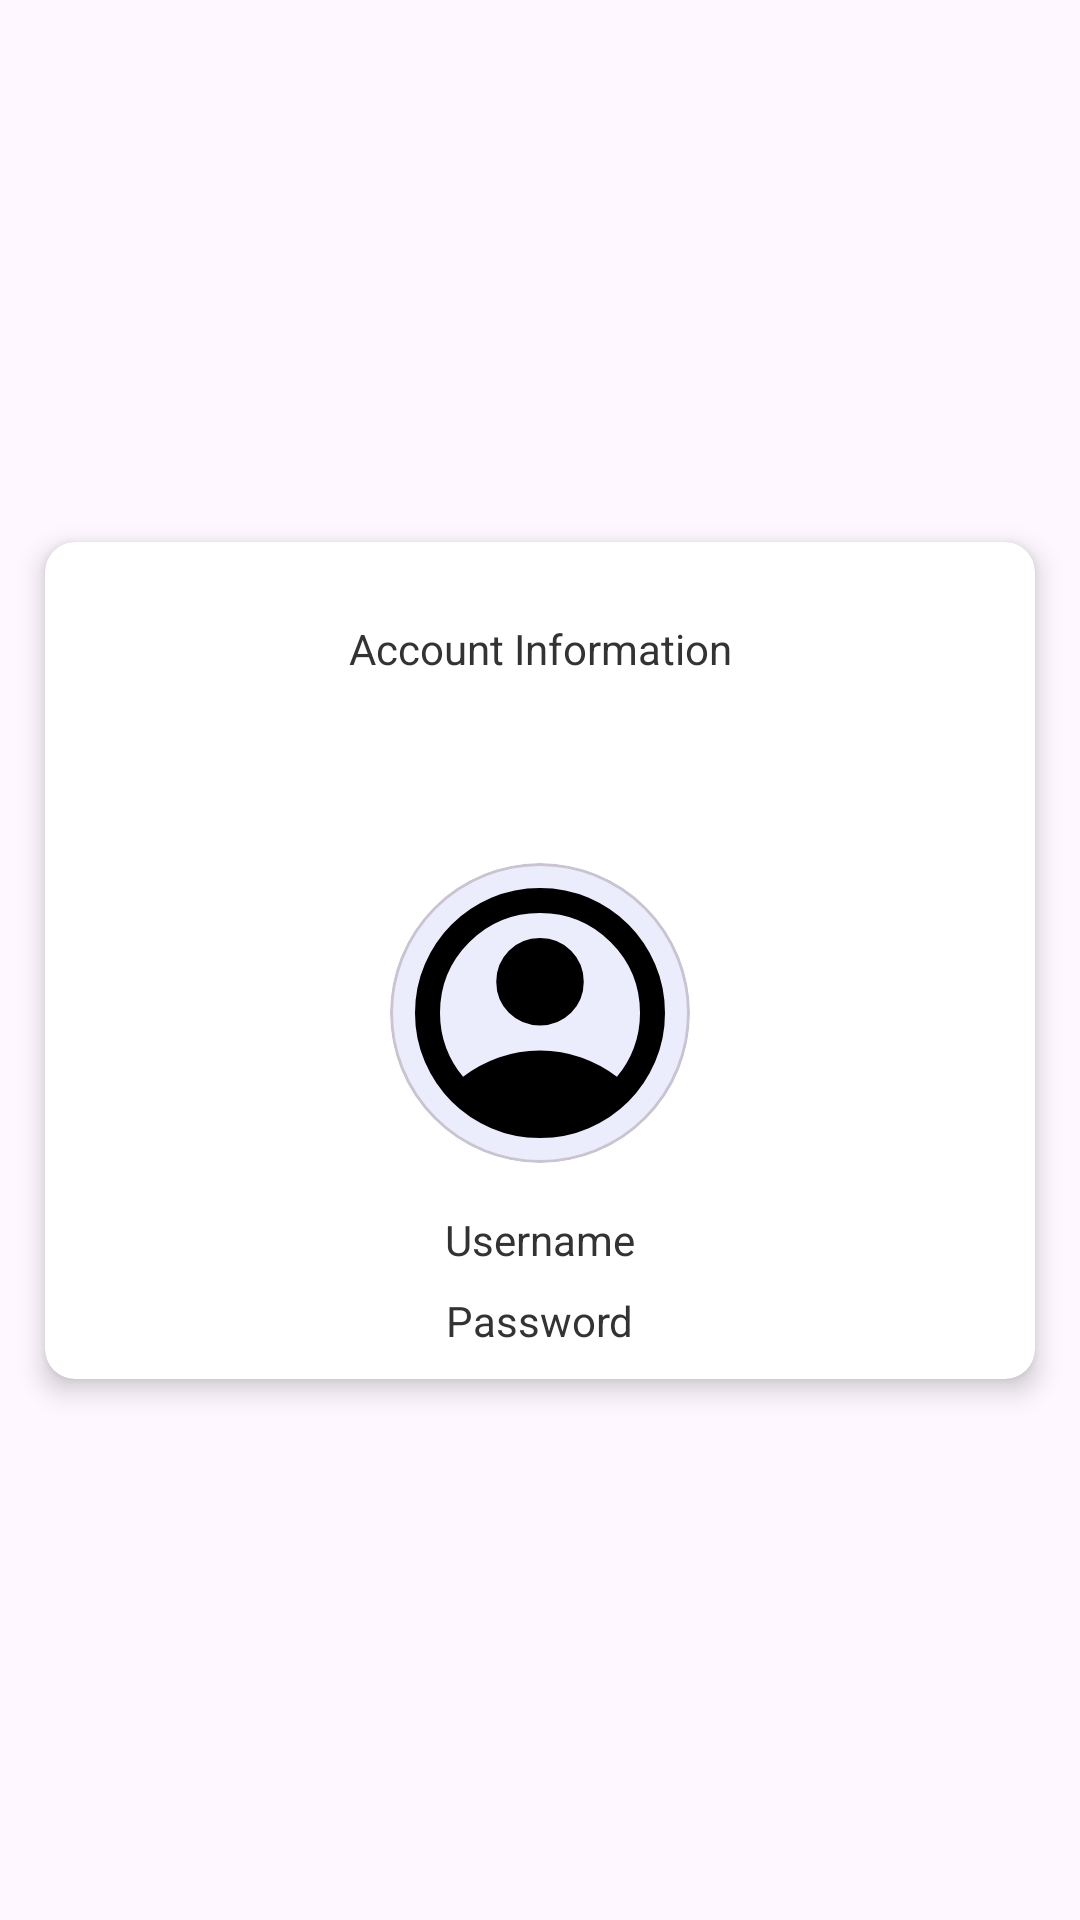

Named icons in this screenshot (1080px x 1920px) and their centers, [x,y]:
Profile Image: [540,1013]
